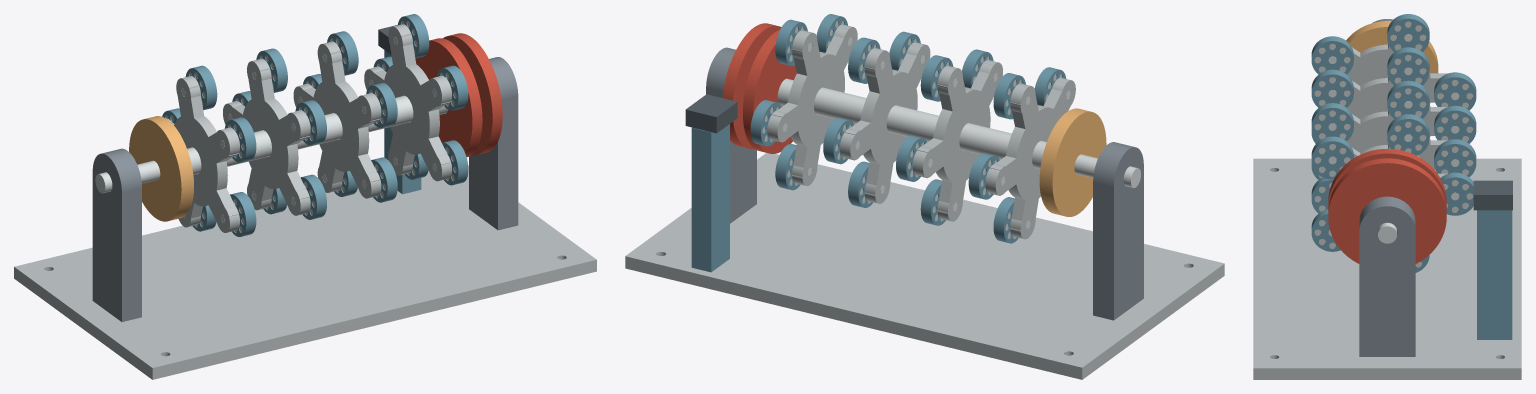
File: assembly.glb
The picture shows the model from 3 angles, left to right: view 1: azimuth 30°, elevation 25°; view 2: azimuth 150°, elevation 25°; view 3: azimuth 270°, elevation 25°; orthographic projection. The views are drawn at different scales.
Parts seen in each view (by area): view 1: MT-001:1, MT-002:1, MT-004:3, MT-004:2, MT-004:4, MT-004:1, MT-002:2, MT-011:1, MT-007:1, MT-007:2, MT-010:1, MT-005:3 (+13 smaller); view 2: MT-001:1, MT-002:1, MT-004:2, MT-004:3, MT-004:4, MT-004:1, MT-008:1, MT-011:1, MT-010:1, MT-002:2, MT-007:1, MT-007:2 (+18 smaller); view 3: MT-001:1, MT-002:2, MT-007:2, MT-008:1, MT-004:3, MT-004:1, MT-004:2, MT-009:1, MT-007:1, MT-011:1, MT-005:17, MT-005:18 (+24 smaller).
Part boxes in pixels (bbox=[...]): MT-001:1: bbox=[14, 166, 596, 379]; MT-002:1: bbox=[92, 148, 141, 321]; MT-004:3: bbox=[293, 41, 381, 198]; MT-004:2: bbox=[223, 58, 310, 215]; MT-004:4: bbox=[364, 24, 451, 181]; MT-004:1: bbox=[166, 76, 239, 232]; MT-002:2: bbox=[469, 57, 518, 230]; MT-011:1: bbox=[129, 116, 193, 221]; MT-007:1: bbox=[415, 38, 482, 157]; MT-007:2: bbox=[443, 33, 502, 155]; MT-010:1: bbox=[187, 95, 447, 174]; MT-005:3: bbox=[224, 117, 256, 162]; MT-001:1: bbox=[625, 153, 1224, 379]; MT-002:1: bbox=[1093, 142, 1143, 320]; MT-004:2: bbox=[912, 60, 1002, 221]; MT-004:3: bbox=[840, 42, 930, 203]; MT-004:4: bbox=[767, 24, 857, 185]; MT-004:1: bbox=[985, 77, 1075, 239]; MT-008:1: bbox=[691, 124, 729, 272]; MT-011:1: bbox=[1039, 108, 1106, 216]; MT-010:1: bbox=[777, 78, 1046, 168]; MT-002:2: bbox=[706, 47, 756, 223]; MT-007:1: bbox=[743, 30, 796, 153]; MT-007:2: bbox=[722, 23, 781, 148]; MT-001:1: bbox=[1253, 158, 1521, 379]; MT-002:2: bbox=[1359, 196, 1415, 356]; MT-007:2: bbox=[1328, 158, 1446, 263]; MT-008:1: bbox=[1477, 210, 1512, 339]; MT-004:3: bbox=[1347, 111, 1447, 169]; MT-004:1: bbox=[1347, 44, 1447, 104]; MT-004:2: bbox=[1347, 78, 1446, 137]; MT-009:1: bbox=[1473, 180, 1512, 210]; MT-007:1: bbox=[1328, 148, 1446, 206]; MT-011:1: bbox=[1346, 21, 1438, 73]; MT-005:17: bbox=[1387, 114, 1429, 155]; MT-005:18: bbox=[1311, 136, 1353, 179].
Size of the model in its own units: 0.352 by 0.1677 by 0.19.
